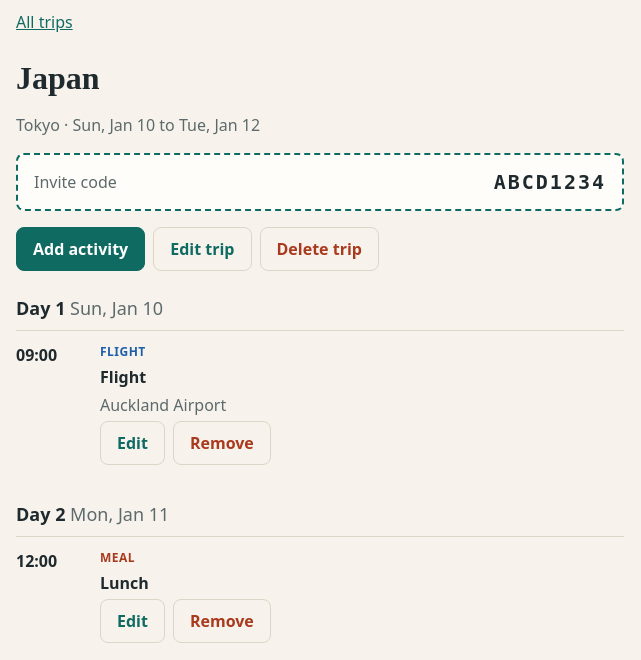
Scenario: organiser › removes an activity
Click the button "Remove" below "Lunch" at (222, 621), box [173,599,271,643]
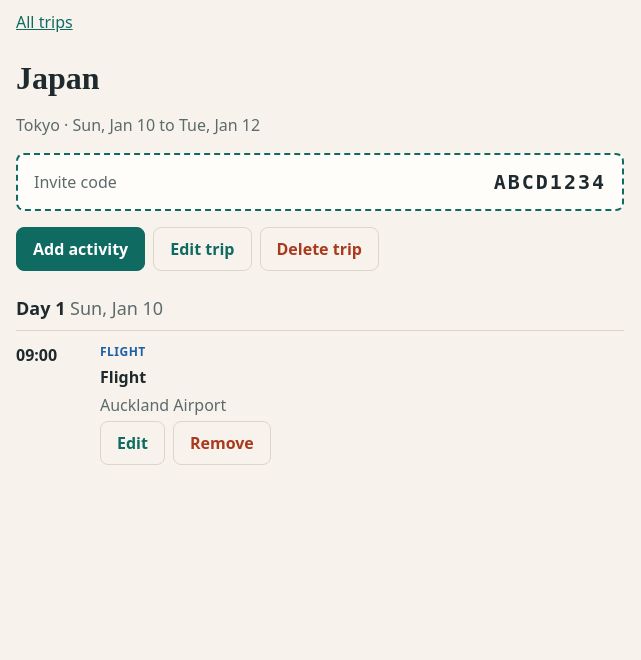
Expected: the heading "Lunch" is gone
